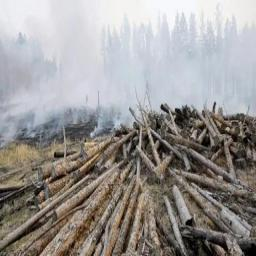Low smoke: (3, 11, 256, 143)
